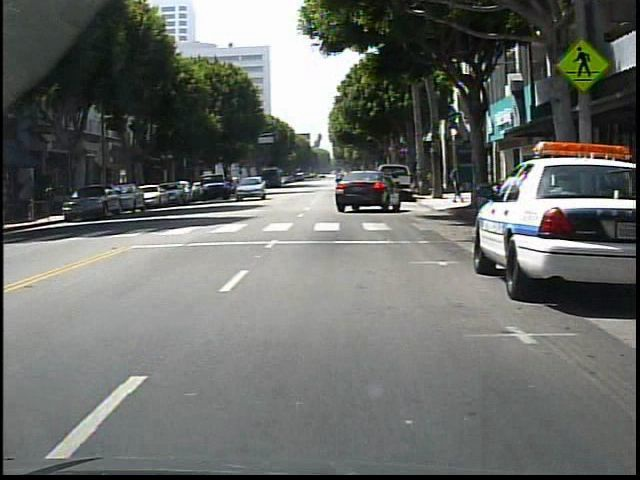person: (446, 160, 468, 209)
